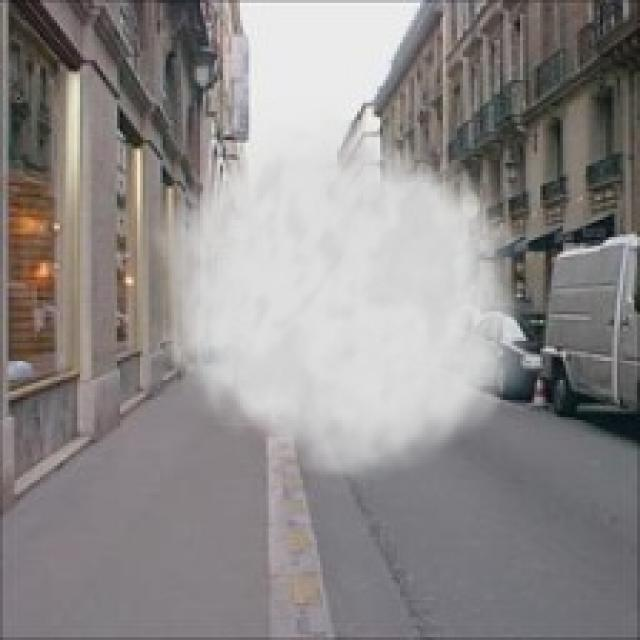Smoke: (145, 97, 546, 492)
